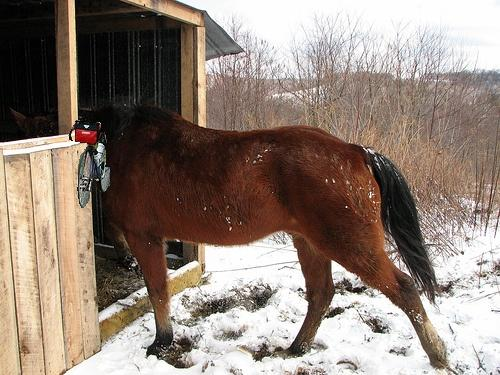tampered: (69, 121, 110, 208)
